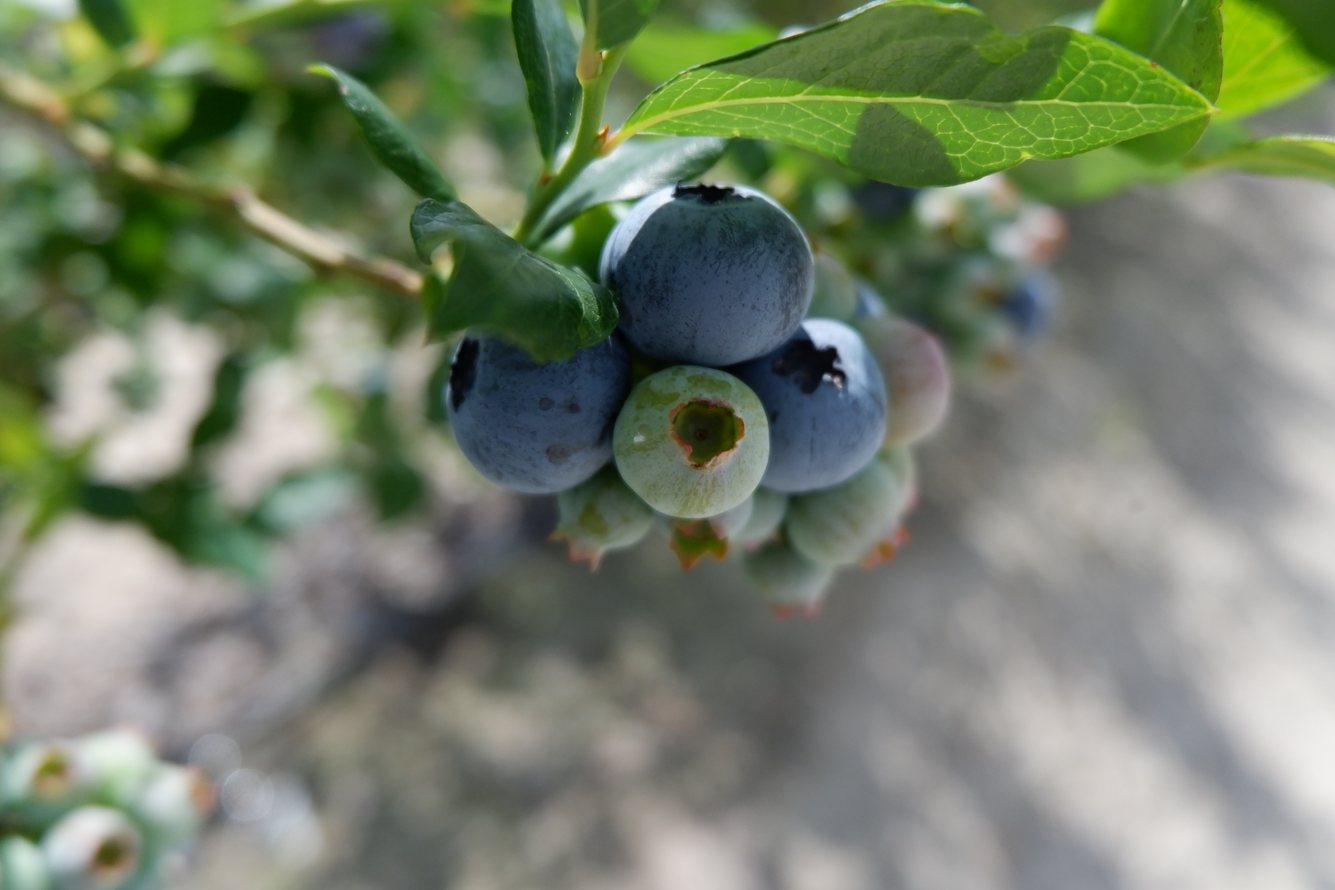Immature: (616, 367, 767, 514), (788, 450, 915, 565), (859, 320, 949, 445), (553, 463, 654, 562), (654, 492, 758, 568), (742, 540, 834, 615), (805, 242, 857, 324), (730, 489, 790, 554)
Mature: (605, 187, 813, 366), (448, 334, 631, 488), (738, 320, 884, 489)
